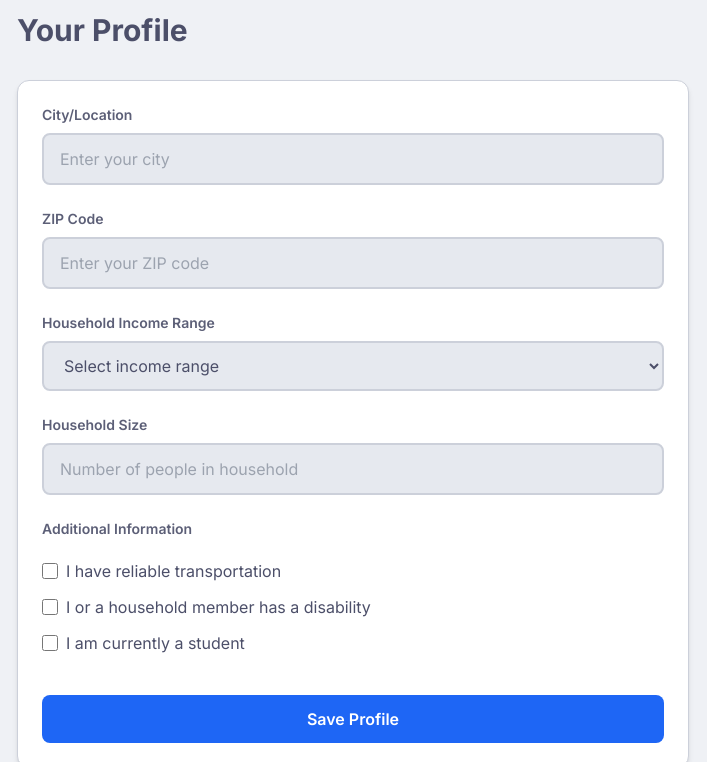
Test: Profile Page - Survey Form Tests › Error Handling › should display error message when profile save fails
Fill out the form
Type "Seattle" into the field labelled "City/Location" at x=353, y=159, box left=42, top=133, right=664, bottom=185
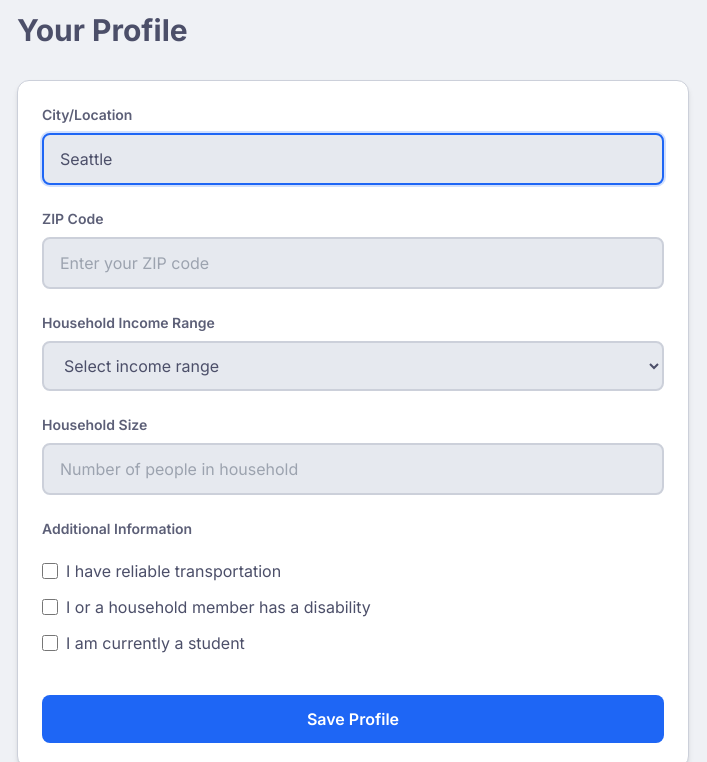
Type "98101" into the field labelled "ZIP Code" at x=353, y=263, box left=42, top=237, right=664, bottom=289
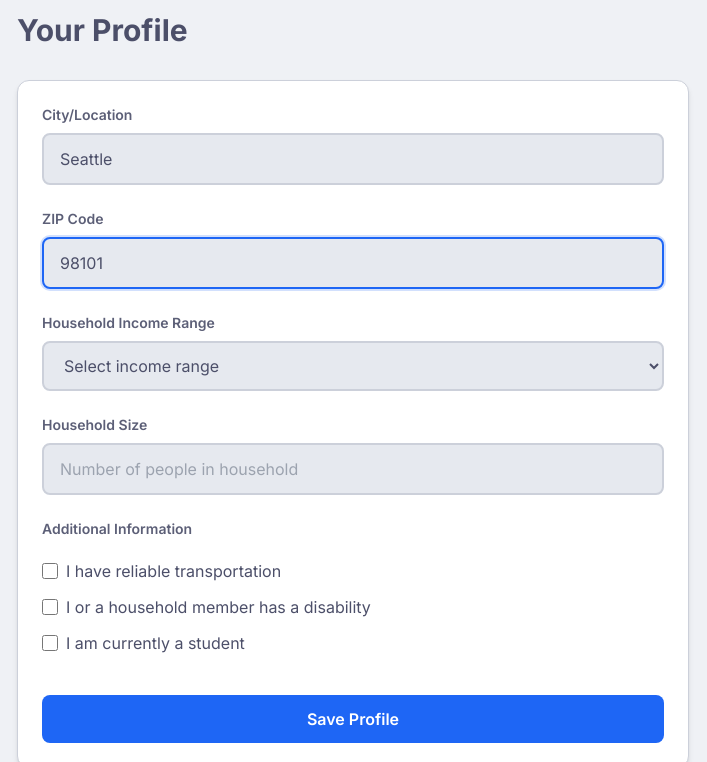
Select "$15,000 - $25,000" in the dropdown labelled "Household Income Range" at x=353, y=366, box left=42, top=341, right=664, bottom=391
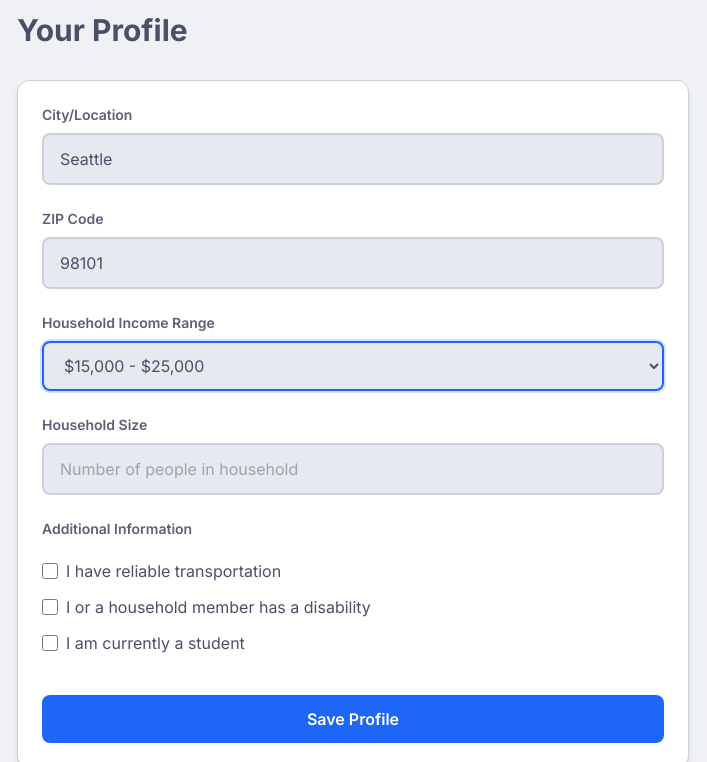
Type "3" into the number field labelled "Household Size" at x=353, y=469, box left=42, top=443, right=664, bottom=495
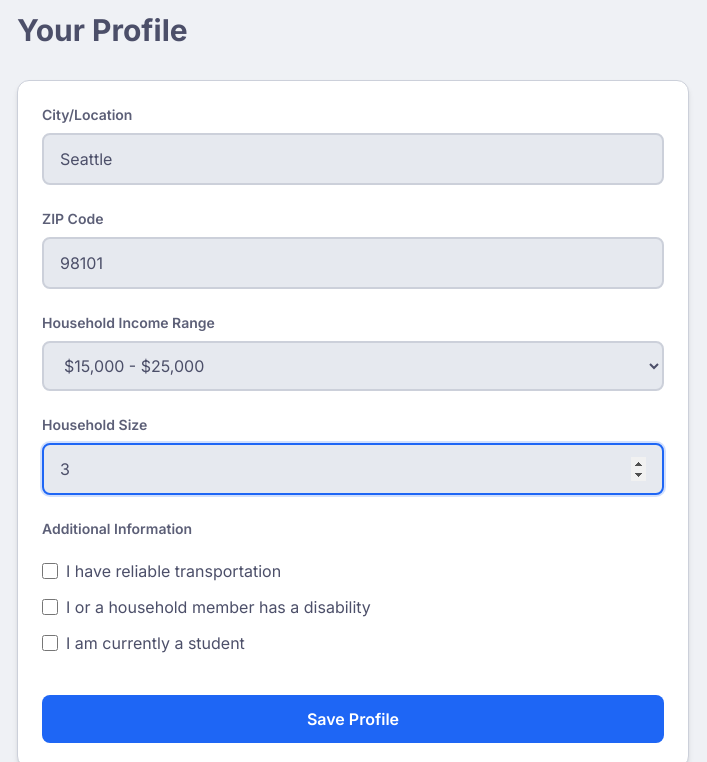
Click the button "Save Profile" at x=353, y=719, box left=42, top=695, right=664, bottom=743
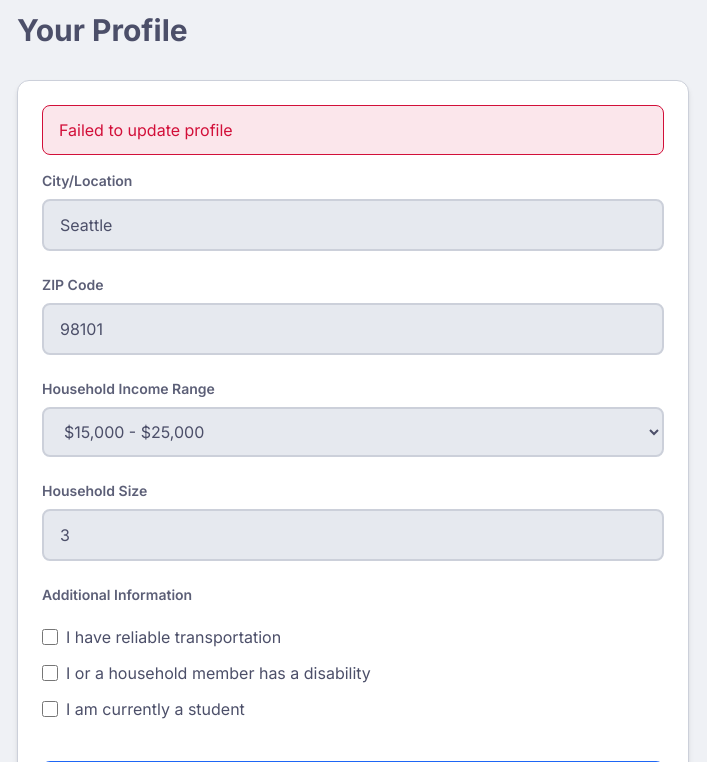
Result: the text "Failed to update profile" is shown at left=42, top=105, right=664, bottom=155
